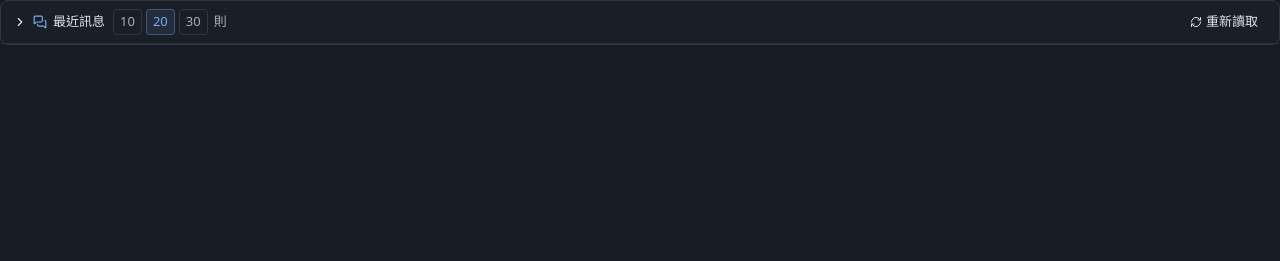
Test: SpaceMessagePreview › defaultCollapsed 只是預設，使用者按過就聽他的
Expected: the text "第一則" is not shown
Click the button "最近訊息" at (59, 22), box 13,12 -> 105,32
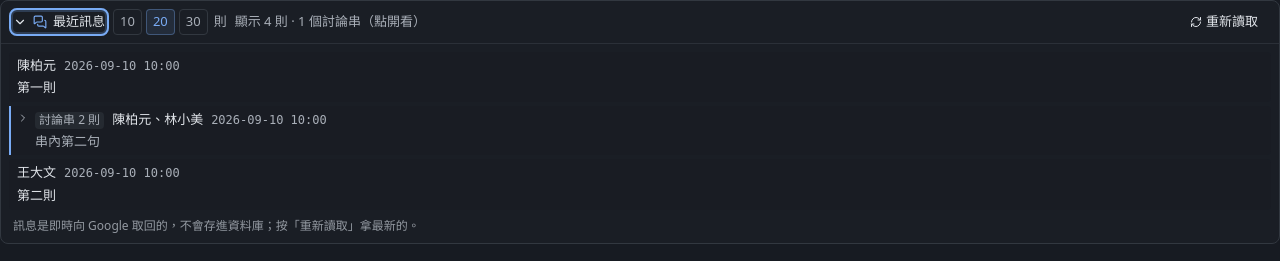
Now the text "第一則" is shown, box 17,78 -> 56,96
